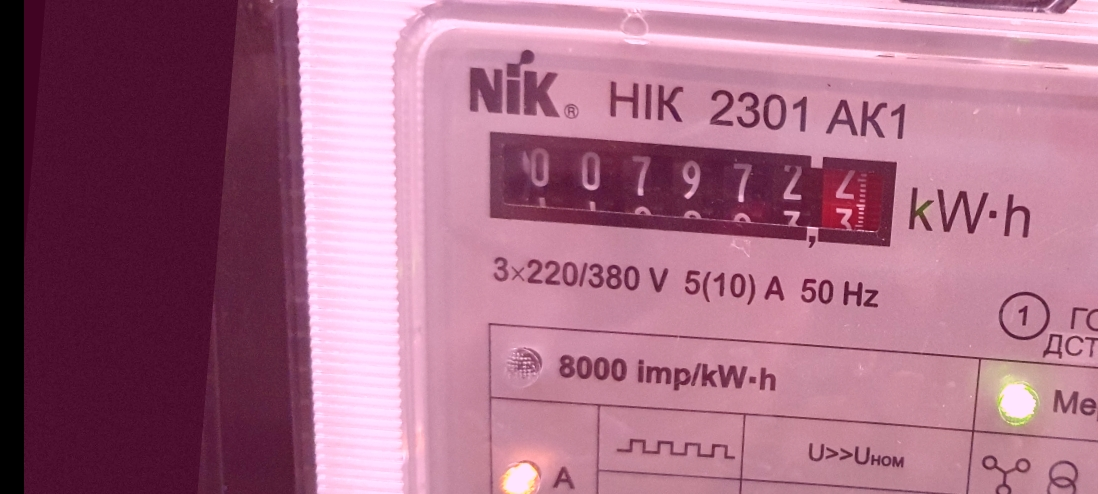0: (526, 145, 556, 188), (578, 148, 605, 192)
2: (781, 162, 807, 202), (833, 167, 858, 202)
3: (832, 204, 856, 231)
7: (728, 159, 757, 206), (627, 152, 655, 198)
9: (678, 156, 704, 201)
screen: (467, 115, 916, 265)
